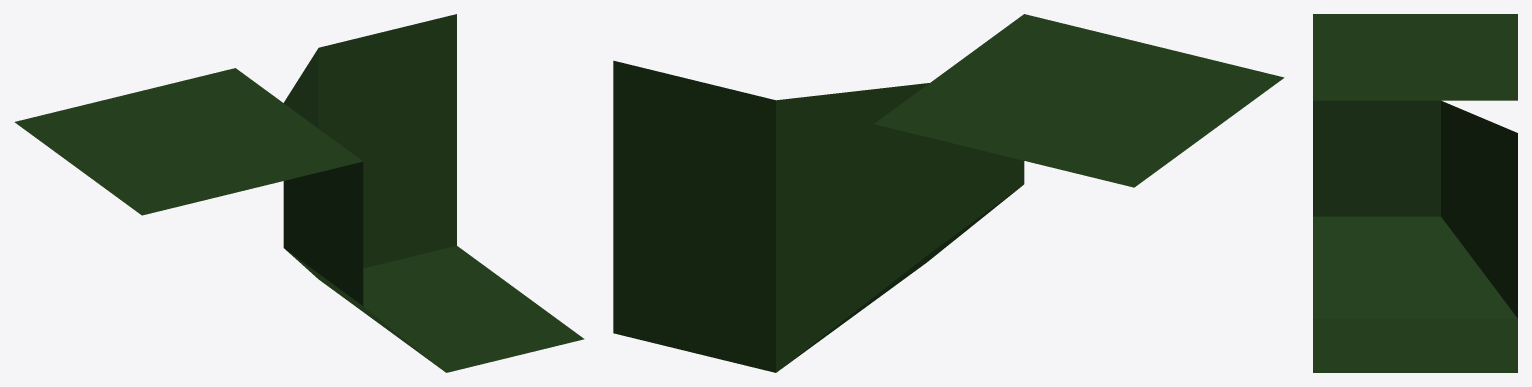
The model's file is test waterfall.glb.
The picture shows the model from 3 angles, left to right: view 1: azimuth 30°, elevation 25°; view 2: azimuth 150°, elevation 25°; view 3: azimuth 270°, elevation 25°; orthographic projection. The views are drawn at different scales.
Visible parts, largest first — view 1: Cube; view 2: Cube; view 3: Cube.
Part boxes in pixels (<box>): Cube: <box>14,14,584,372</box>; Cube: <box>613,14,1284,372</box>; Cube: <box>1313,14,1517,372</box>.
Size of the model in its own units: 10 by 5 by 5.
